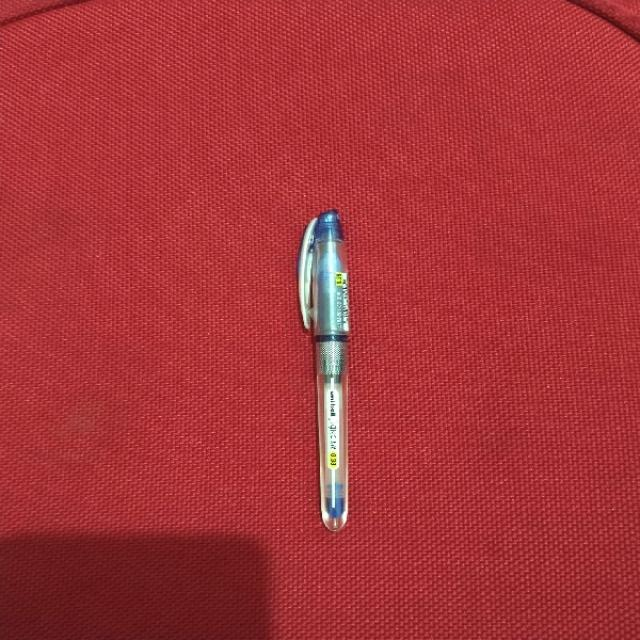pen: (299, 211, 348, 531)
